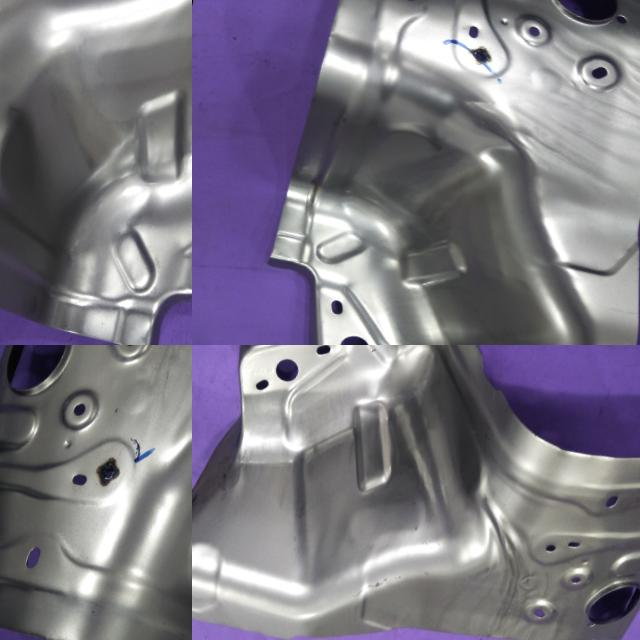Defect: (464, 345, 511, 417)
Healthy: (218, 0, 640, 345), (0, 0, 192, 345), (0, 345, 192, 640)
